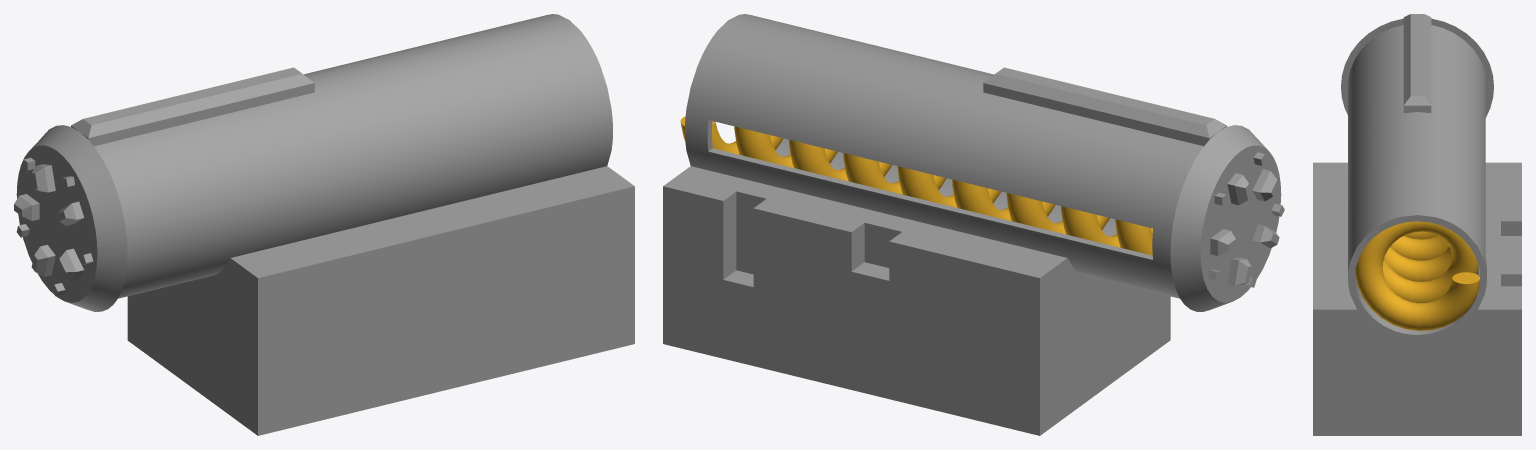
Rendered from CoilThing v1.fbx.
3 renders of one model, left to right at view 1: azimuth 30°, elevation 25°; view 2: azimuth 150°, elevation 25°; view 3: azimuth 270°, elevation 25°, orthographic. The views are drawn at different scales.
Parts seen in each view (by area): view 1: Body1; view 2: Body1, Body2; view 3: Body1, Body2.
Boxes of the visible parts, x1=… form: Body1: x1=14, y1=14, x2=634, y2=435; Body1: x1=663, y1=14, x2=1284, y2=435; Body2: x1=680, y1=116, x2=1152, y2=255; Body1: x1=1313, y1=14, x2=1521, y2=435; Body2: x1=1355, y1=221, x2=1479, y2=330.
Size of the model in its own units: 7.2 by 3.7 by 3.
